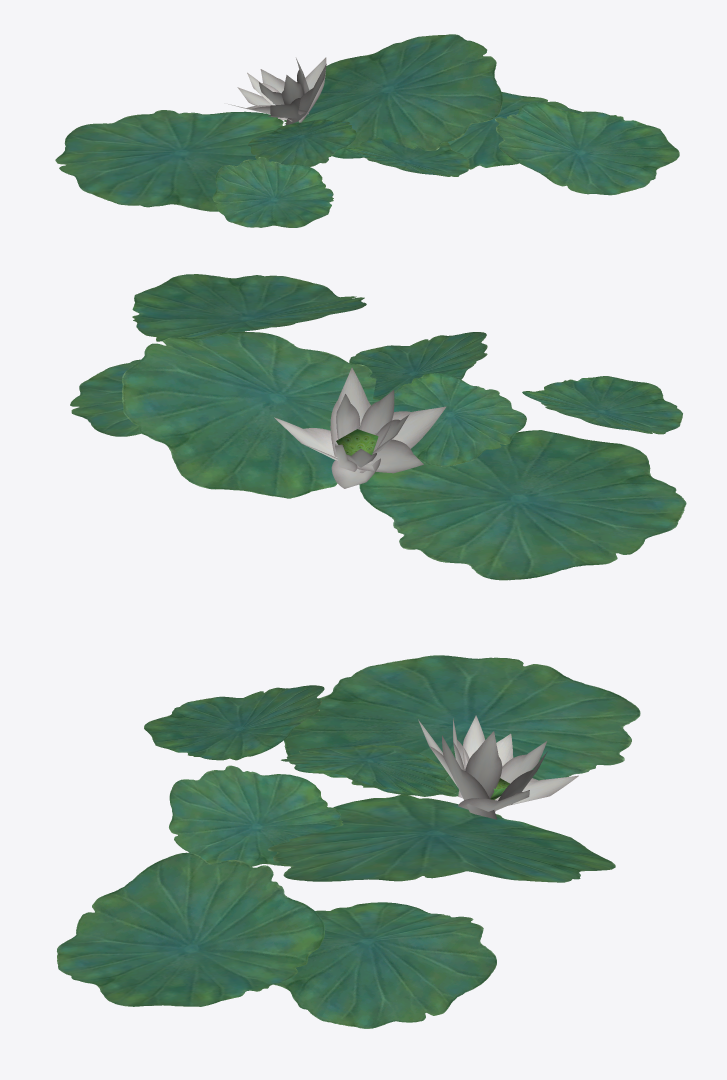
Rendered from hehua_yunmeng_08.FBX.
3 renders of one model, top to bottom at view 1: azimuth 30°, elevation 25°; view 2: azimuth 150°, elevation 25°; view 3: azimuth 270°, elevation 25°, orthographic. The views are drawn at different scales.
Visible parts, largest first — view 1: Mesh_0026; view 2: Mesh_0026; view 3: Mesh_0026.
Boxes of the visible parts, x1,y1,x2,y2 form: Mesh_0026: (55,34,679,227); Mesh_0026: (70,274,686,580); Mesh_0026: (57,655,640,1028).
Size of the model in its own units: 394 by 66.62 by 290.
